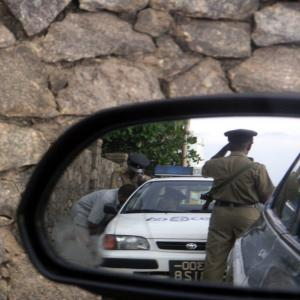Vehicle-registration-plate: (169, 260, 206, 282)
